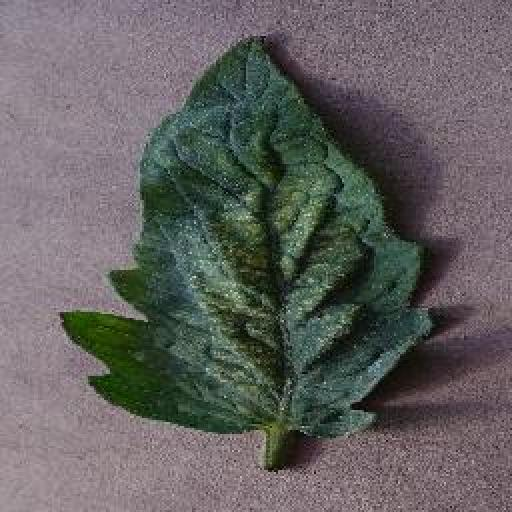disease_tomato: (59, 32, 439, 439)
